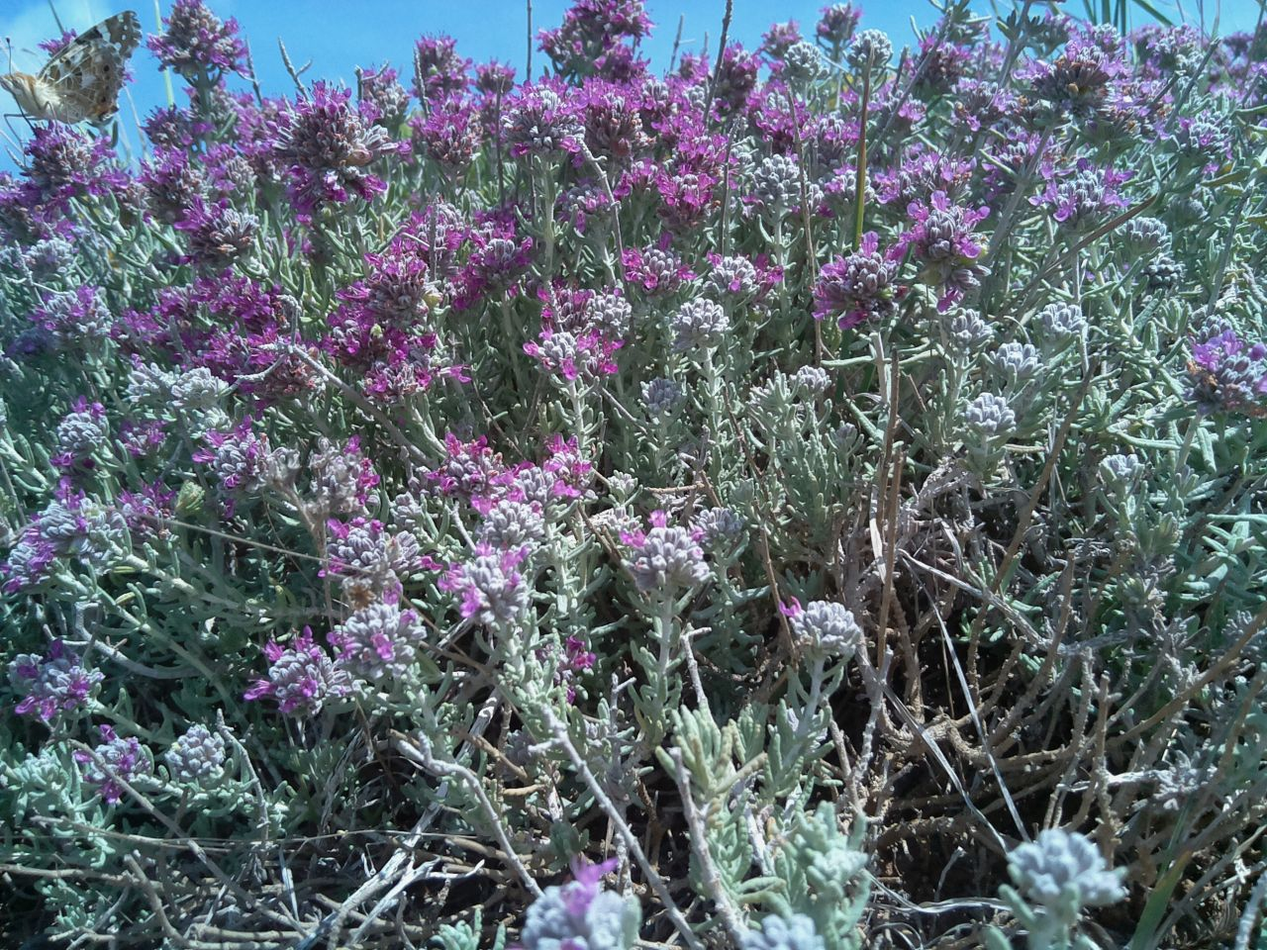Butterfly: (3, 6, 151, 185)
